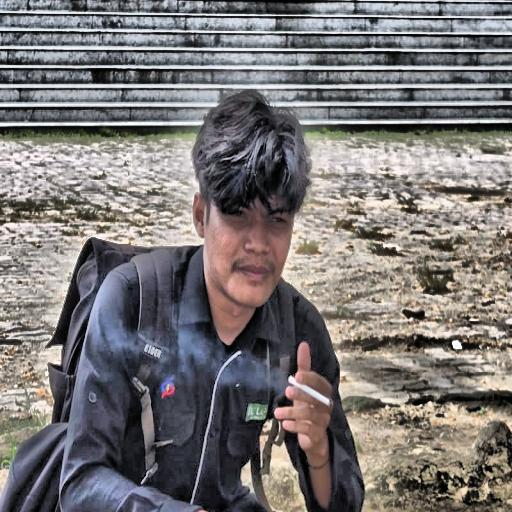Asbak: (288, 375, 332, 409)
Merokok: (193, 193, 294, 344), (275, 342, 332, 505)
